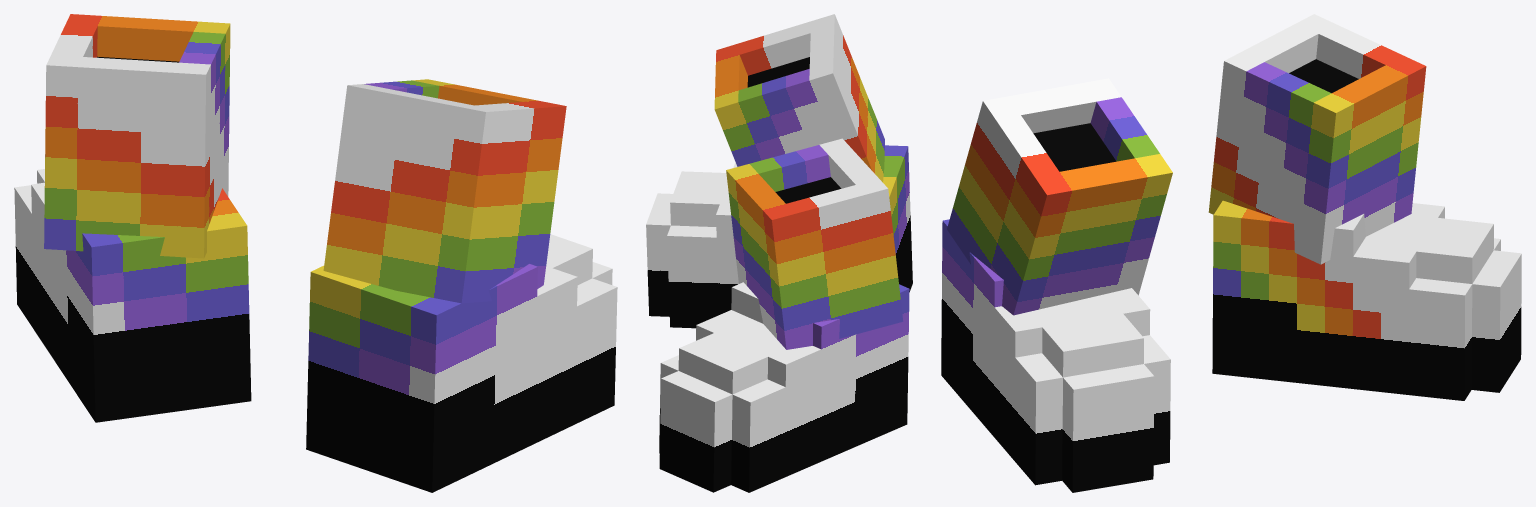
Rendered from Rainbow_Ski_Boots_-_Care_Bears.gltf.
The picture shows the model from 3 angles, left to right: view 1: azimuth 30°, elevation 25°; view 2: azimuth 150°, elevation 25°; view 3: azimuth 270°, elevation 25°; orthographic projection. The views are drawn at different scales.
Visible parts, largest first — view 1: Equip_Right_Foot-Local, Equip_Right_Leg-Local, Equip_Left_Leg-Local, Equip_Left_Foot-Local; view 2: Equip_Left_Foot-Local, Equip_Left_Leg-Local, Equip_Right_Leg-Local, Equip_Right_Foot-Local; view 3: Equip_Left_Foot-Local, Equip_Right_Foot-Local, Equip_Right_Leg-Local, Equip_Left_Leg-Local.
Part boxes in pixels (left/top/right/bottom): Equip_Right_Foot-Local: left=306, top=234, right=617, bottom=492; Equip_Right_Leg-Local: left=323, top=79, right=566, bottom=303; Equip_Left_Leg-Local: left=44, top=14, right=230, bottom=258; Equip_Left_Foot-Local: left=14, top=154, right=251, bottom=422; Equip_Left_Foot-Local: left=659, top=282, right=909, bottom=492; Equip_Left_Leg-Local: left=726, top=138, right=903, bottom=349; Equip_Right_Leg-Local: left=714, top=14, right=884, bottom=182; Equip_Right_Foot-Local: left=646, top=145, right=912, bottom=328; Equip_Left_Foot-Local: left=1212, top=200, right=1521, bottom=400; Equip_Right_Foot-Local: left=941, top=219, right=1170, bottom=492; Equip_Right_Leg-Local: left=947, top=78, right=1172, bottom=315; Equip_Left_Leg-Local: left=1208, top=14, right=1426, bottom=264.
Size of the model in its own units: 15.78 by 12.3 by 20.09.
4 materials, 4 textured.
